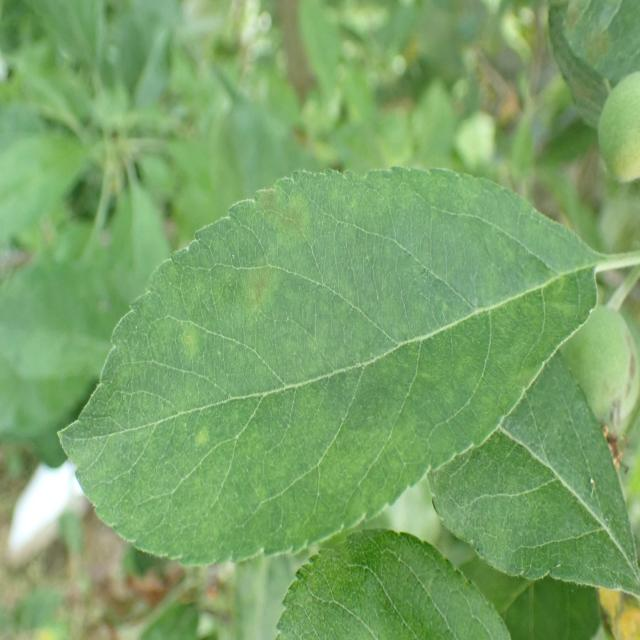scab: (102, 173, 564, 487)
